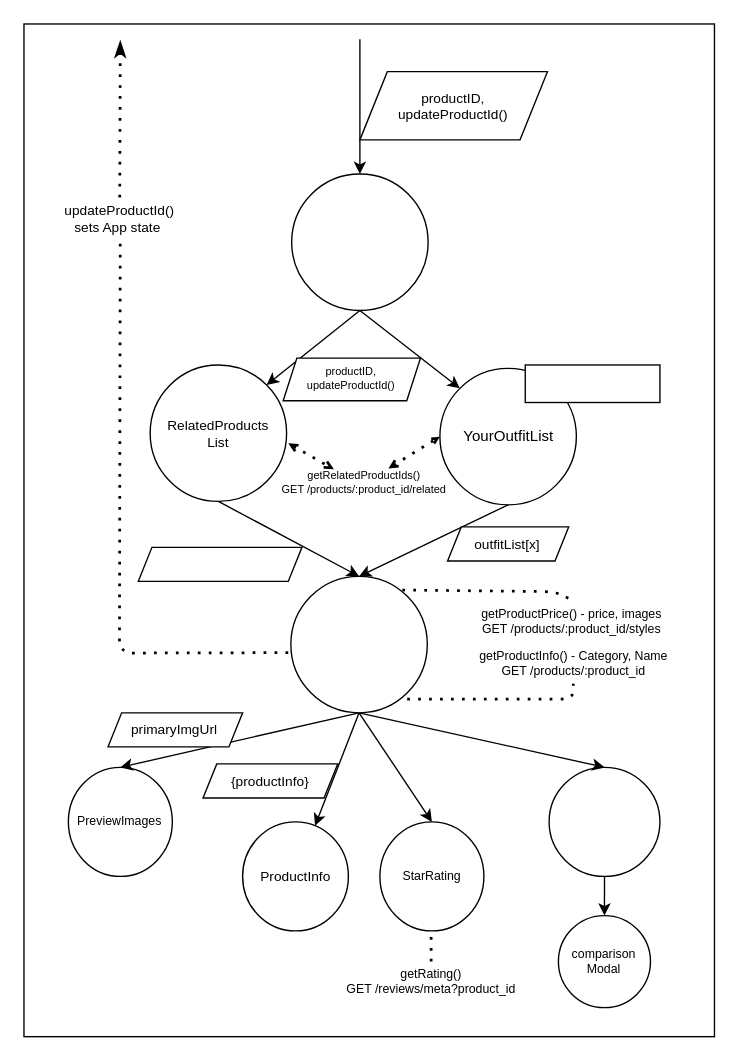
Some shapes in this 738 by 1062 pixel diagram are drawn without their labels. Here are the shapes that lost their labels. From the top down, the centre of each, then its label:
At (x=359, y=241): "Related Items and Comparison".
At (x=592, y=383): "OutfitList: [ids]".
At (x=219, y=563): "relatedProductId[x]".
At (x=358, y=644): "ProductCard".
At (x=604, y=821): "Action Button".
